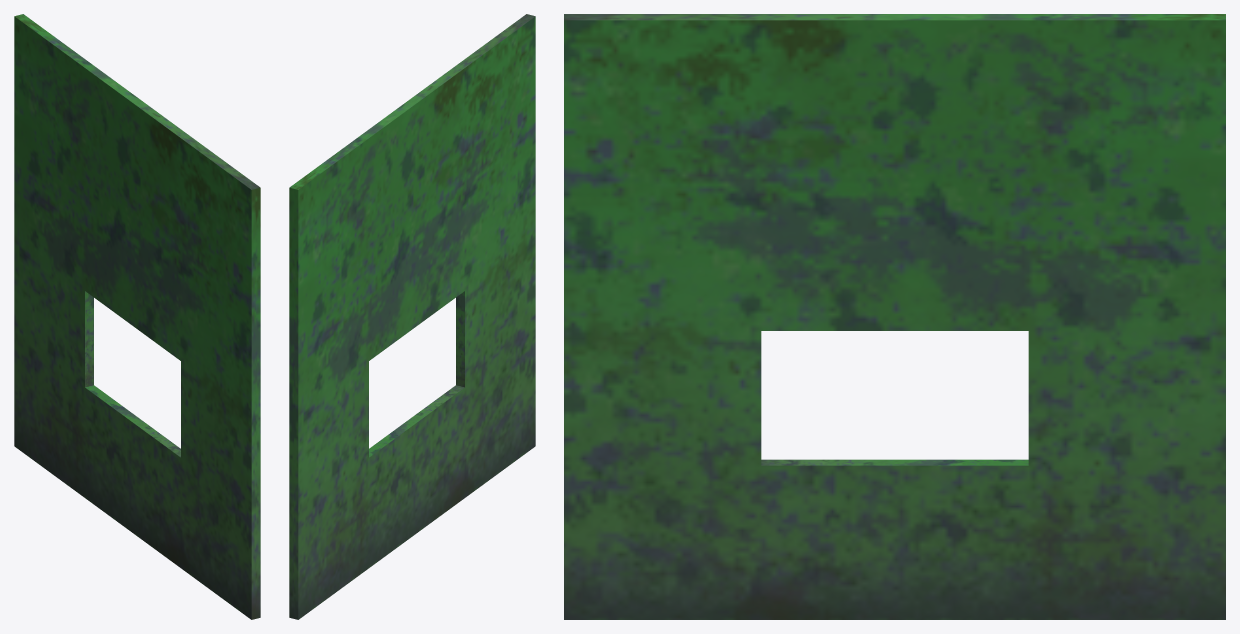
The model's file is WindowWallGreen_SM.fbx.
3 renders of one model, left to right at view 1: azimuth 30°, elevation 25°; view 2: azimuth 150°, elevation 25°; view 3: azimuth 270°, elevation 25°, orthographic. The views are drawn at different scales.
Parts seen in each view (by area): view 1: WindowWall; view 2: WindowWall; view 3: WindowWall.
Boxes of the visible parts, x1,y1,x2,y2 form: WindowWall: (14,14,260,619); WindowWall: (289,14,535,619); WindowWall: (564,14,1225,619).
Bounding box in the file's own units: 10 × 450 × 450.
Materials: 1 (1 with a texture image).
